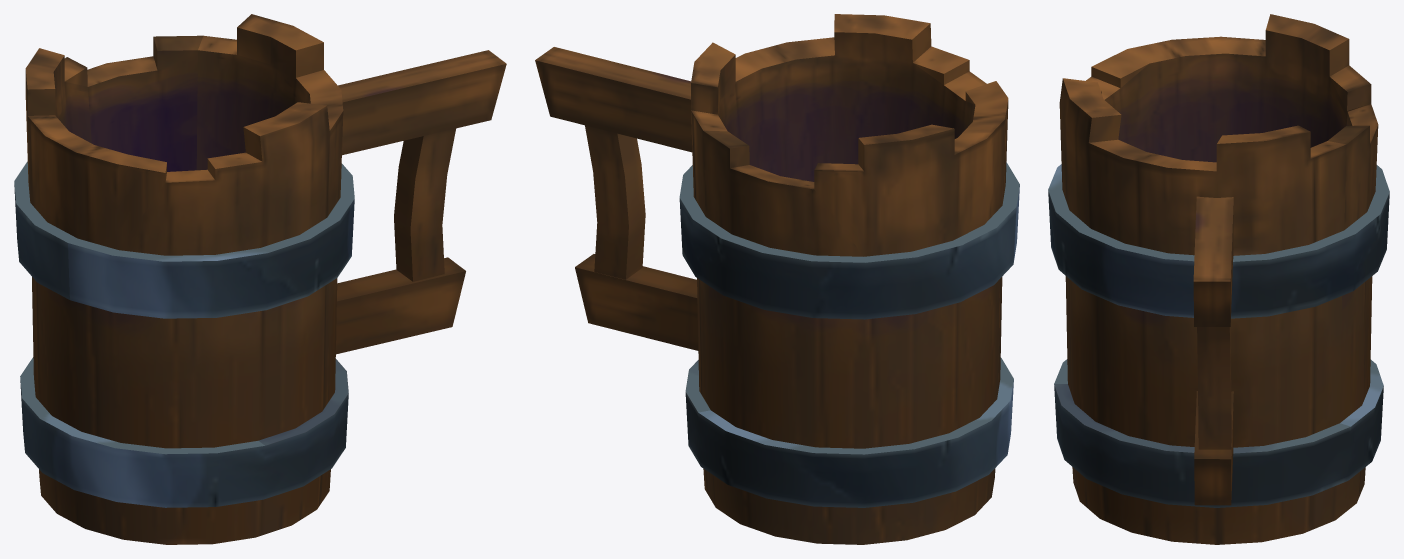
The model's file is wodenMug.glb.
3 renders of one model, left to right at view 1: azimuth 30°, elevation 25°; view 2: azimuth 150°, elevation 25°; view 3: azimuth 270°, elevation 25°, orthographic.
Parts seen in each view (by area): view 1: Wooden Barrel Mug; view 2: Wooden Barrel Mug; view 3: Wooden Barrel Mug.
Part boxes in pixels (bbox=[...]): Wooden Barrel Mug: bbox=[14, 14, 506, 544]; Wooden Barrel Mug: bbox=[535, 14, 1019, 544]; Wooden Barrel Mug: bbox=[1048, 14, 1389, 544].
Size of the model in its own units: 21.92 by 18.65 by 14.2.
1 material, 1 textured.
